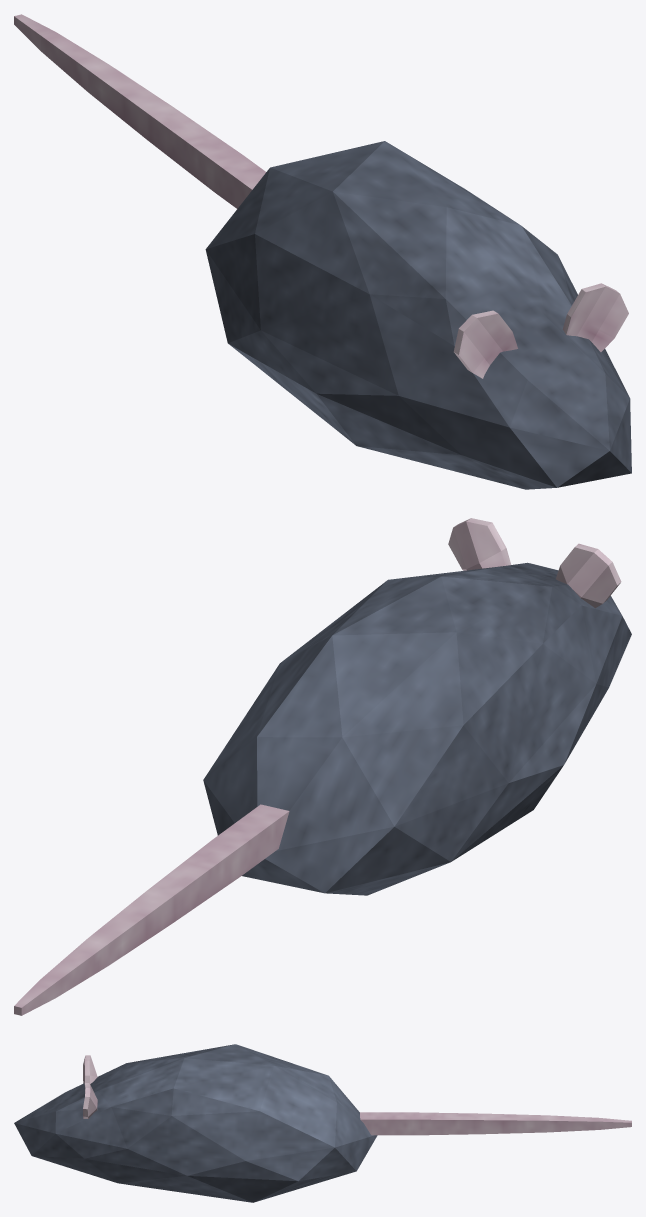
Rendered from rat.obj.
The picture shows the model from 3 angles, top to bottom: view 1: azimuth 30°, elevation 25°; view 2: azimuth 150°, elevation 25°; view 3: azimuth 270°, elevation 25°; orthographic projection. The views are drawn at different scales.
Parts seen in each view (by area): view 1: rat; view 2: rat; view 3: rat.
Boxes of the visible parts, x1,y1,x2,y2 form: rat: [14, 14, 631, 489]; rat: [14, 518, 631, 1015]; rat: [14, 1044, 631, 1202].
Bounding box in the file's own units: 0.571 × 0.5159 × 2.3.
1 material, 1 textured.
